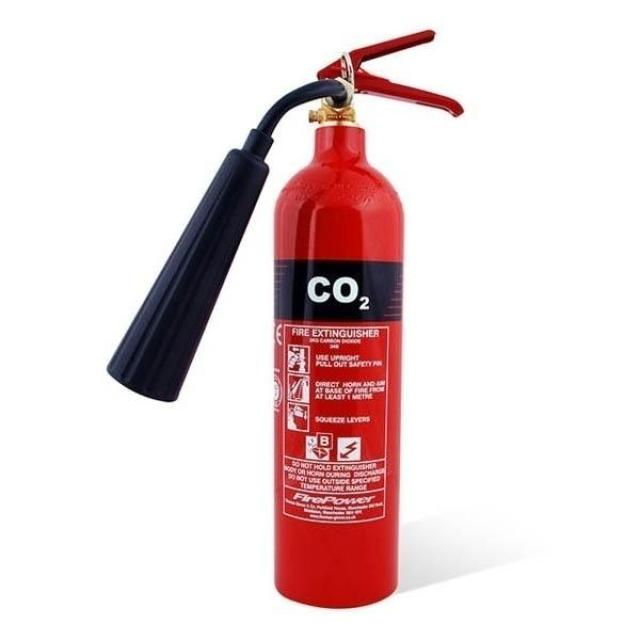fire_extinguisher: (98, 22, 468, 612)
